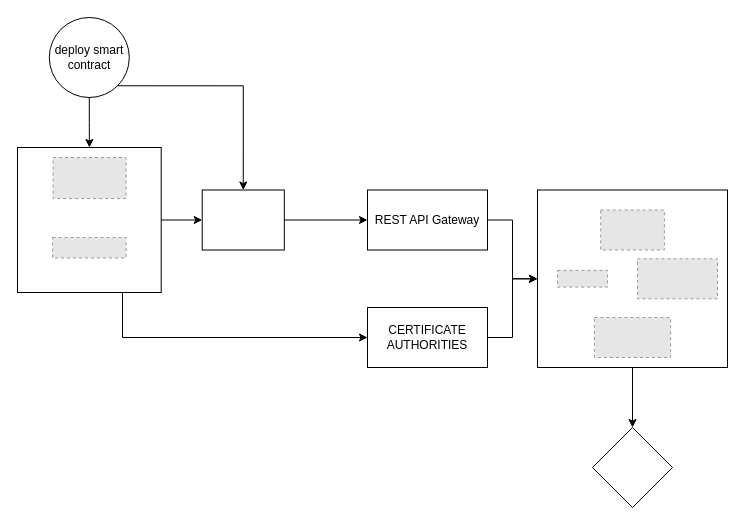
Image size: 745x525. Some labels were removed from this diagram. Grey dashed boxes stand in for pictures. The centre of each missing label's shape, as x and y in pixels:
"chaincode-js" goes at point 242,219.
"restfull api" goes at point 632,467.
